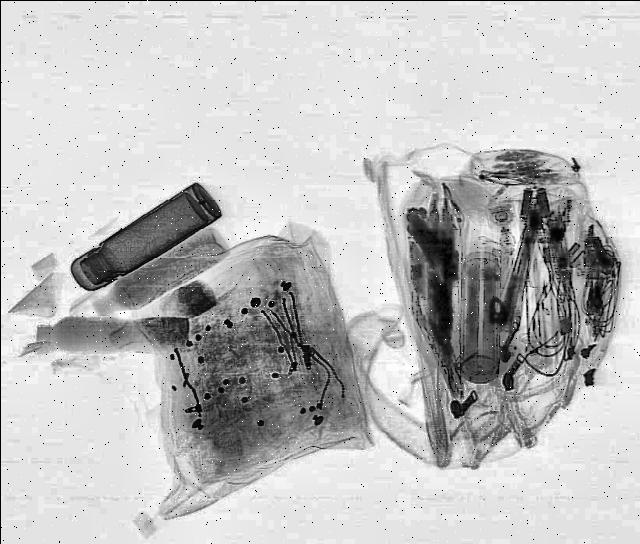Wrench: (501, 196, 545, 334)
